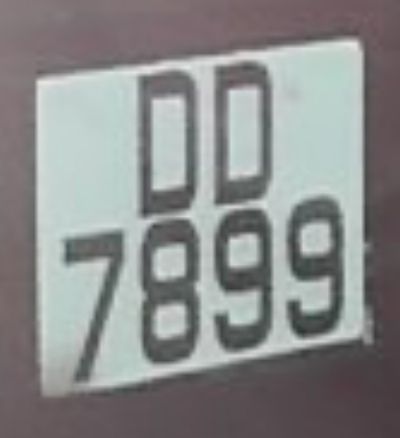7: (43, 207, 132, 386)
8: (127, 208, 218, 376)
9: (193, 195, 280, 349), (273, 180, 356, 339)
D: (200, 54, 290, 210), (119, 66, 208, 223)
